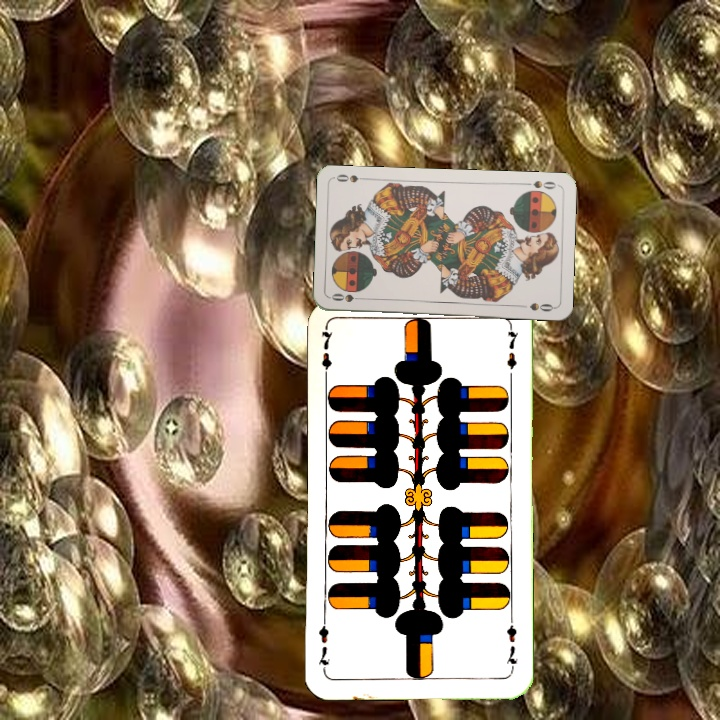E7: (502, 614, 521, 673), (317, 325, 335, 384)
SO: (328, 289, 368, 305), (520, 177, 560, 192)
